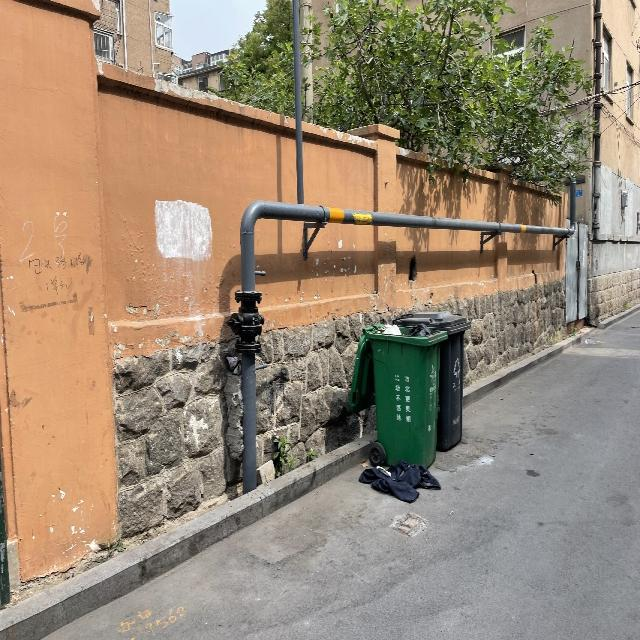garbage: (358, 460, 440, 503)
garbage_bin: (393, 311, 470, 451)
overflow: (348, 323, 447, 469)
